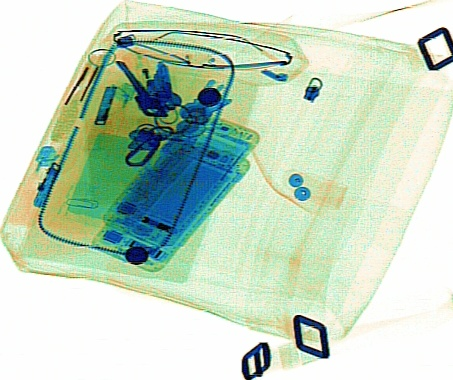lighter: (7, 144, 62, 227), (81, 80, 137, 160), (116, 45, 172, 112)
